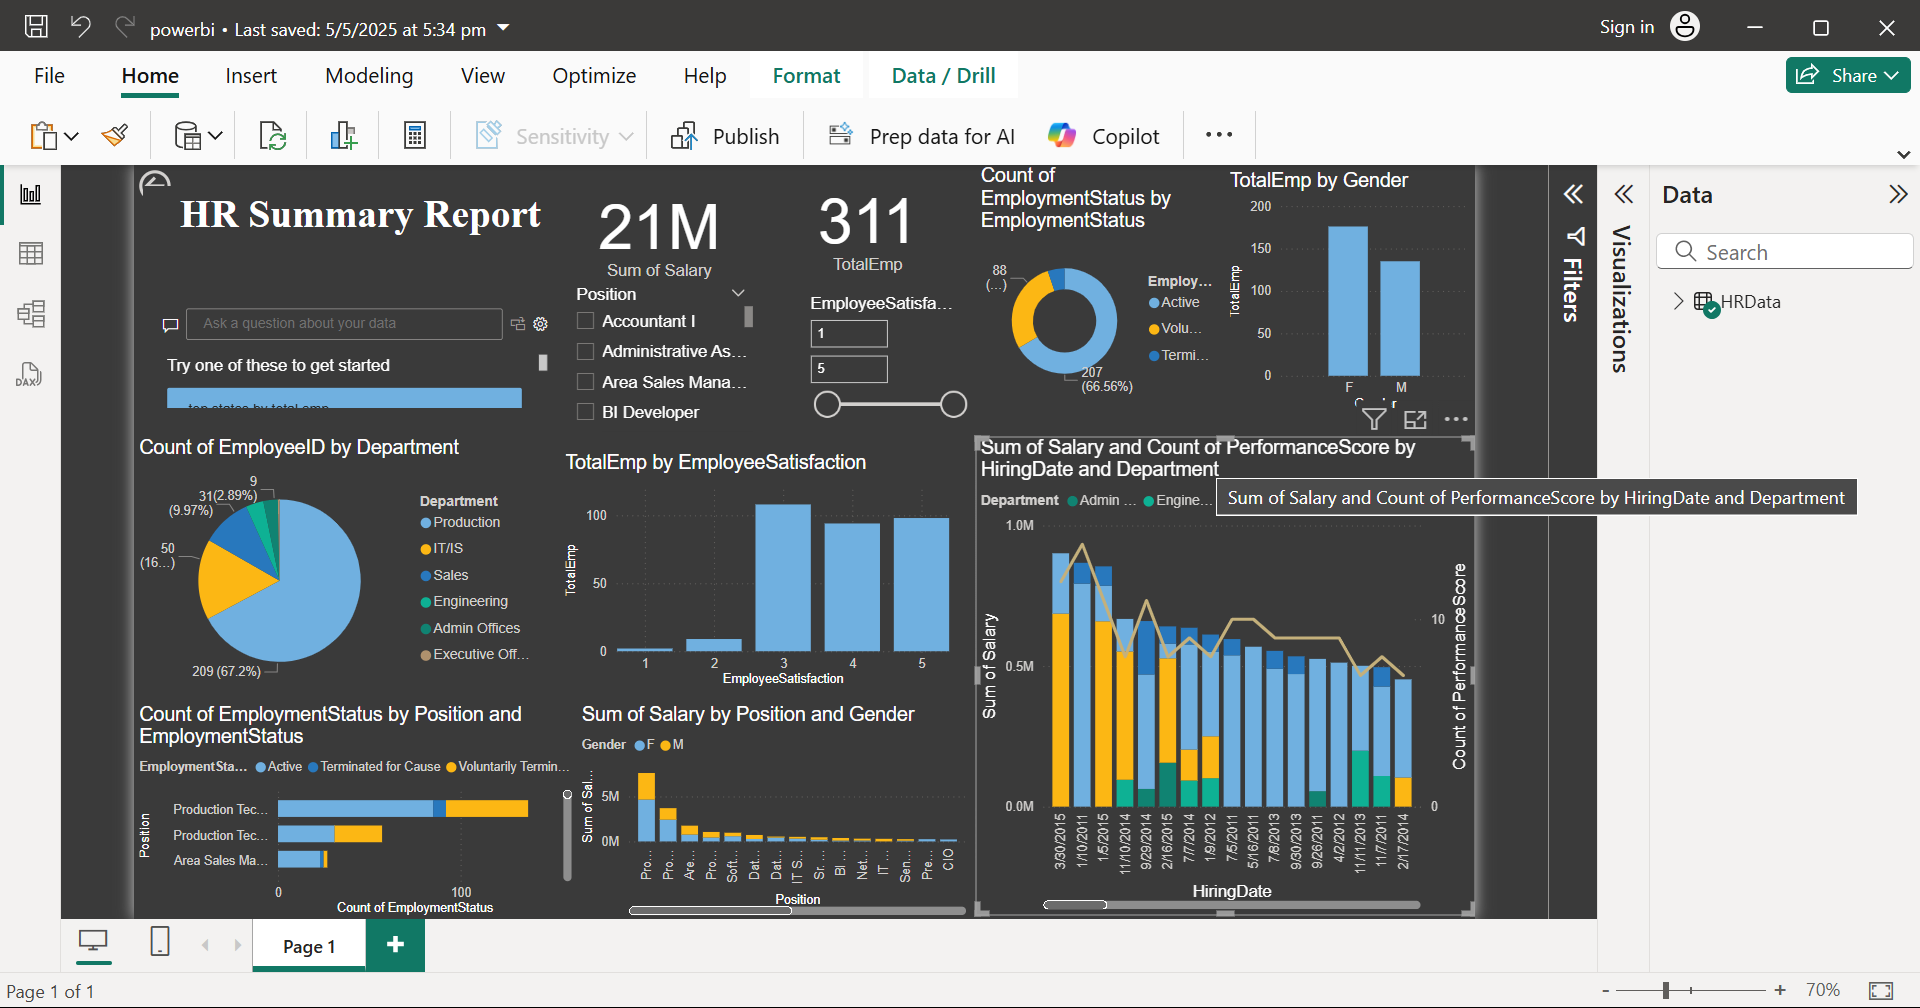

The page's visual inventory and layout, read from the dashboard file:
{"tool":"powerbi","page":{"name":"Page 1","canvas":[1280,720],"ordinal":0},"visuals":[{"type":"card","fields":{"Values":["Sum(HRData.Salary)"]},"box":[407.2,4.8,189.3,117.7],"z":0},{"type":"pieChart","fields":{"Y":["CountNonNull(HRData.EmployeeID)"],"Category":["HRData.Department"]},"box":[0,259.3,392.9,254.5],"z":1000},{"type":"barChart","fields":{"Category":["HRData.Position"],"Y":["CountNonNull(HRData.EmploymentStatus)"],"Series":["HRData.EmploymentStatus"]},"box":[0,513.8,423.1,206.8],"z":2000},{"type":"actionButton","box":[0,0,100,40],"z":3000},{"type":"columnChart","fields":{"Y":["Sum(HRData.Salary)"],"Category":["HRData.Position"],"Series":["HRData.Gender"]},"box":[423.1,513.8,377,206.8],"z":4000},{"type":"lineStackedColumnComboChart","fields":{"Y":["Sum(HRData.Salary)"],"Category":["HRData.HiringDate"],"Series":["HRData.Department"],"Y2":["CountNonNull(HRData.PerformanceScore)"]},"box":[803.3,259.3,477.2,456.5],"z":5000},{"type":"textbox","box":[8,20.7,415.1,65.2],"z":6000},{"type":"card","fields":{"Values":["HRData.TotalEmp"]},"box":[617.2,4.8,167,106.6],"z":7000},{"type":"columnChart","fields":{"Y":["HRData.TotalEmp"],"Category":["HRData.EmployeeSatisfaction"]},"box":[407.2,273.6,377,229],"z":8000},{"type":"donutChart","fields":{"Category":["HRData.EmploymentStatus"],"Y":["CountNonNull(HRData.EmploymentStatus)"]},"box":[803.3,0,238.6,235.4],"z":9000},{"type":"columnChart","fields":{"Y":["HRData.TotalEmp"],"Category":["HRData.Gender"]},"box":[1041.9,4.8,238.6,235.4],"z":10000},{"type":"qnaVisual","box":[22.3,111.3,384.9,128.8],"z":11000},{"type":"slicer","fields":{"Values":["HRData.Position"]},"box":[410.4,108.2,186.1,151.1],"z":12000},{"type":"slicer","fields":{"Values":["HRData.EmployeeSatisfaction"]},"box":[633.1,117.7,170.2,151.1],"z":12001}]}

Visuals, with their boxes on the page's 1280x720 design canvas (x1, y1, x2, y2). These are canvas units, not pixel positions in the 1920x1008 screenshot, which may show the page scaled, cropped or inside an application window:
card - Sum(HRData.Salary): crop(407, 5, 596, 122)
pieChart - CountNonNull(HRData.EmployeeID) x HRData.Department: crop(0, 259, 393, 514)
barChart - HRData.Position x CountNonNull(HRData.EmploymentStatus): crop(0, 514, 423, 721)
actionButton: crop(0, 0, 100, 40)
columnChart - Sum(HRData.Salary) x HRData.Position: crop(423, 514, 800, 721)
lineStackedColumnComboChart - Sum(HRData.Salary) x HRData.HiringDate: crop(803, 259, 1280, 716)
textbox: crop(8, 21, 423, 86)
card - HRData.TotalEmp: crop(617, 5, 784, 111)
columnChart - HRData.TotalEmp x HRData.EmployeeSatisfaction: crop(407, 274, 784, 503)
donutChart - HRData.EmploymentStatus x CountNonNull(HRData.EmploymentStatus): crop(803, 0, 1042, 235)
columnChart - HRData.TotalEmp x HRData.Gender: crop(1042, 5, 1280, 240)
qnaVisual: crop(22, 111, 407, 240)
slicer - HRData.Position: crop(410, 108, 596, 259)
slicer - HRData.EmployeeSatisfaction: crop(633, 118, 803, 269)
